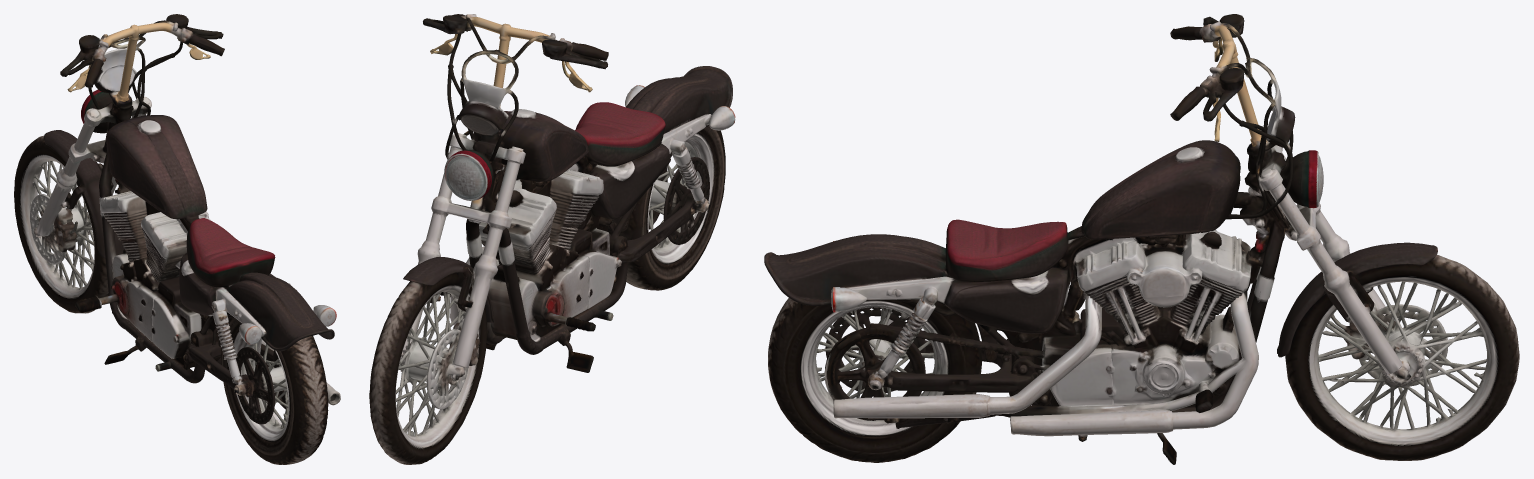
File: harley-generated.glb
3 views of the same model, side by side, from view 1: azimuth 30°, elevation 25°; view 2: azimuth 150°, elevation 25°; view 3: azimuth 270°, elevation 25° (orthographic). The views are drawn at different scales.
Parts seen in each view (by area): view 1: tripo_node_145ccca3-75a0-4cba-9a81-e4f4374508f1; view 2: tripo_node_145ccca3-75a0-4cba-9a81-e4f4374508f1; view 3: tripo_node_145ccca3-75a0-4cba-9a81-e4f4374508f1.
Part boxes in pixels (x1,y1,x2,y2): tripo_node_145ccca3-75a0-4cba-9a81-e4f4374508f1: [14, 14, 340, 464]; tripo_node_145ccca3-75a0-4cba-9a81-e4f4374508f1: [369, 14, 735, 464]; tripo_node_145ccca3-75a0-4cba-9a81-e4f4374508f1: [764, 14, 1519, 464].
Bounding box in the file's own units: 0.3075 × 0.5993 × 0.9788.
1 material, 1 textured.
